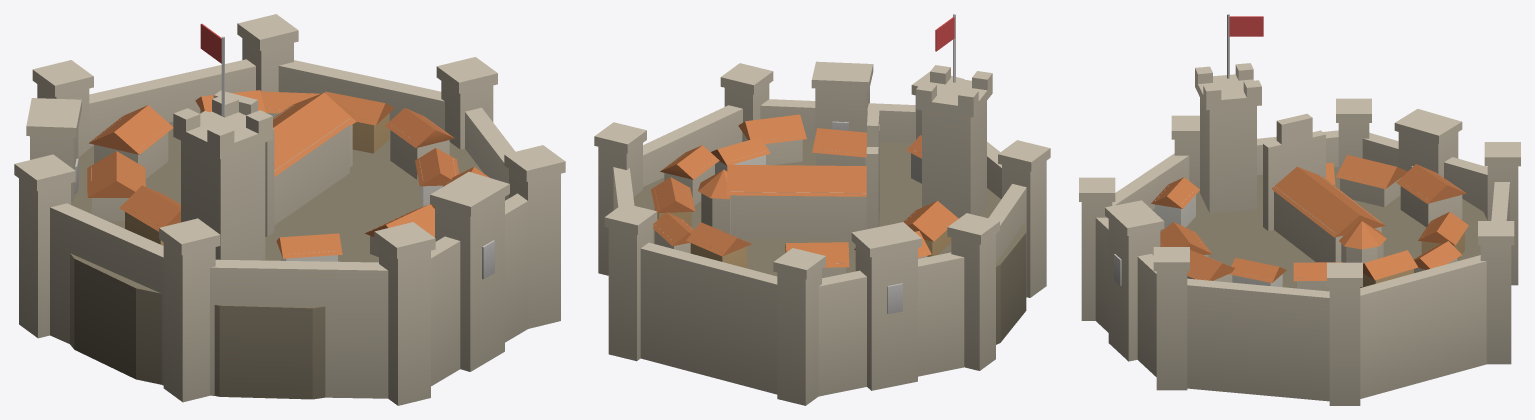
Rendered from town_med_b.glb.
3 renders of one model, left to right at view 1: azimuth 30°, elevation 25°; view 2: azimuth 150°, elevation 25°; view 3: azimuth 270°, elevation 25°, orthographic. The views are drawn at different scales.
Parts seen in each view (by area): view 1: town_med_b; view 2: town_med_b; view 3: town_med_b.
Boxes of the visible parts, bbox=[...] form: town_med_b: bbox=[14, 14, 565, 405]; town_med_b: bbox=[594, 14, 1050, 405]; town_med_b: bbox=[1079, 14, 1520, 405].
Size of the model in its own units: 1.94 by 1.31 by 2.02.
